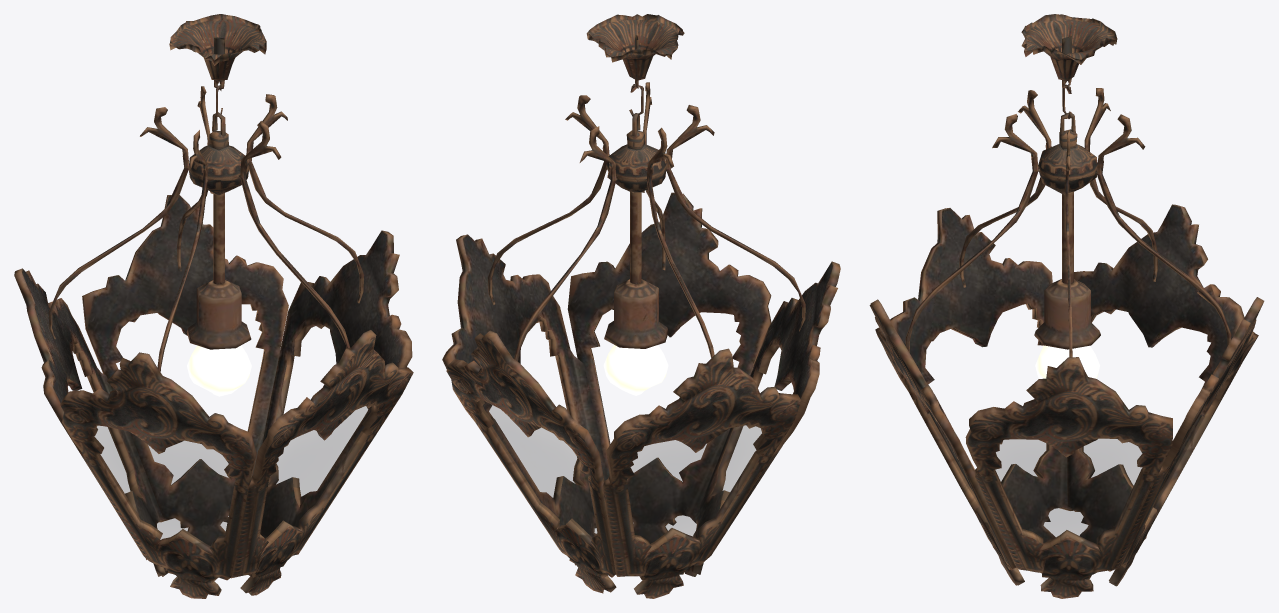
The model's file is lantern_chandelier_01_lod1.glb.
3 views of the same model, side by side, from view 1: azimuth 30°, elevation 25°; view 2: azimuth 150°, elevation 25°; view 3: azimuth 270°, elevation 25° (orthographic).
Parts seen in each view (by area): view 1: lantern_chandelier_01; view 2: lantern_chandelier_01; view 3: lantern_chandelier_01.
Part boxes in pixels (left/top/right/bottom): lantern_chandelier_01: left=14, top=14, right=413, bottom=598; lantern_chandelier_01: left=442, top=14, right=840, bottom=598; lantern_chandelier_01: left=869, top=14, right=1264, bottom=598.
Size of the model in its own units: 0.5792 by 0.8776 by 0.5746.
3 materials, 2 textured.
